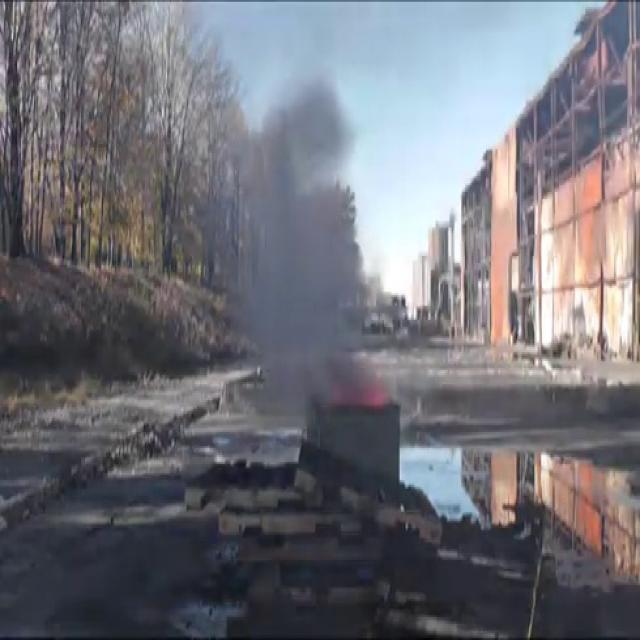Smoke: (180, 46, 394, 443)
